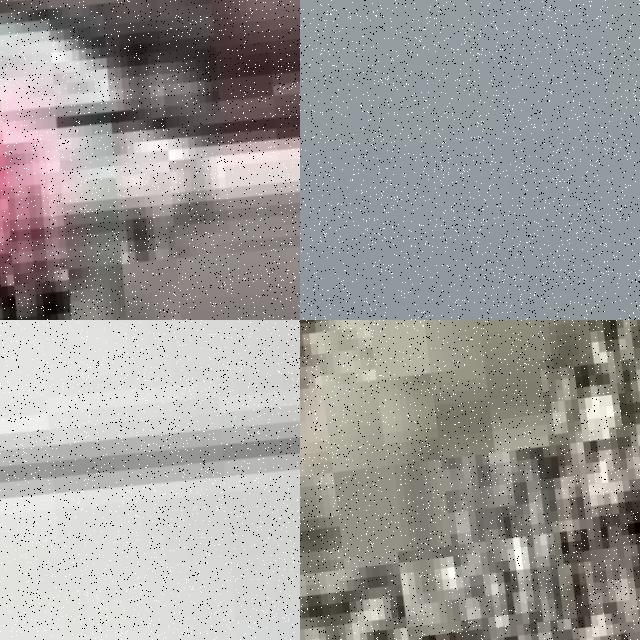0: (0, 0, 300, 320)
drone: (0, 320, 300, 640)
